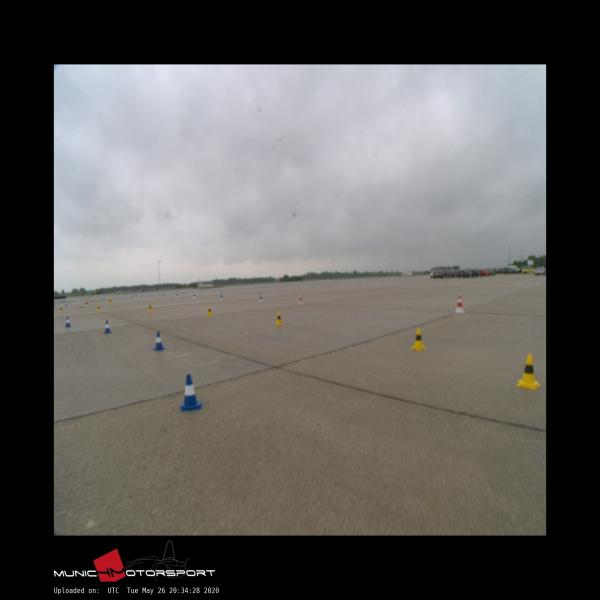blue_cone: (181, 374, 201, 410), (154, 332, 164, 350), (104, 320, 111, 333), (64, 317, 70, 326)
yellow_cone: (517, 354, 540, 390), (411, 327, 426, 350), (275, 312, 283, 326), (206, 306, 212, 316), (148, 303, 153, 312), (97, 305, 101, 312), (59, 306, 63, 312)
